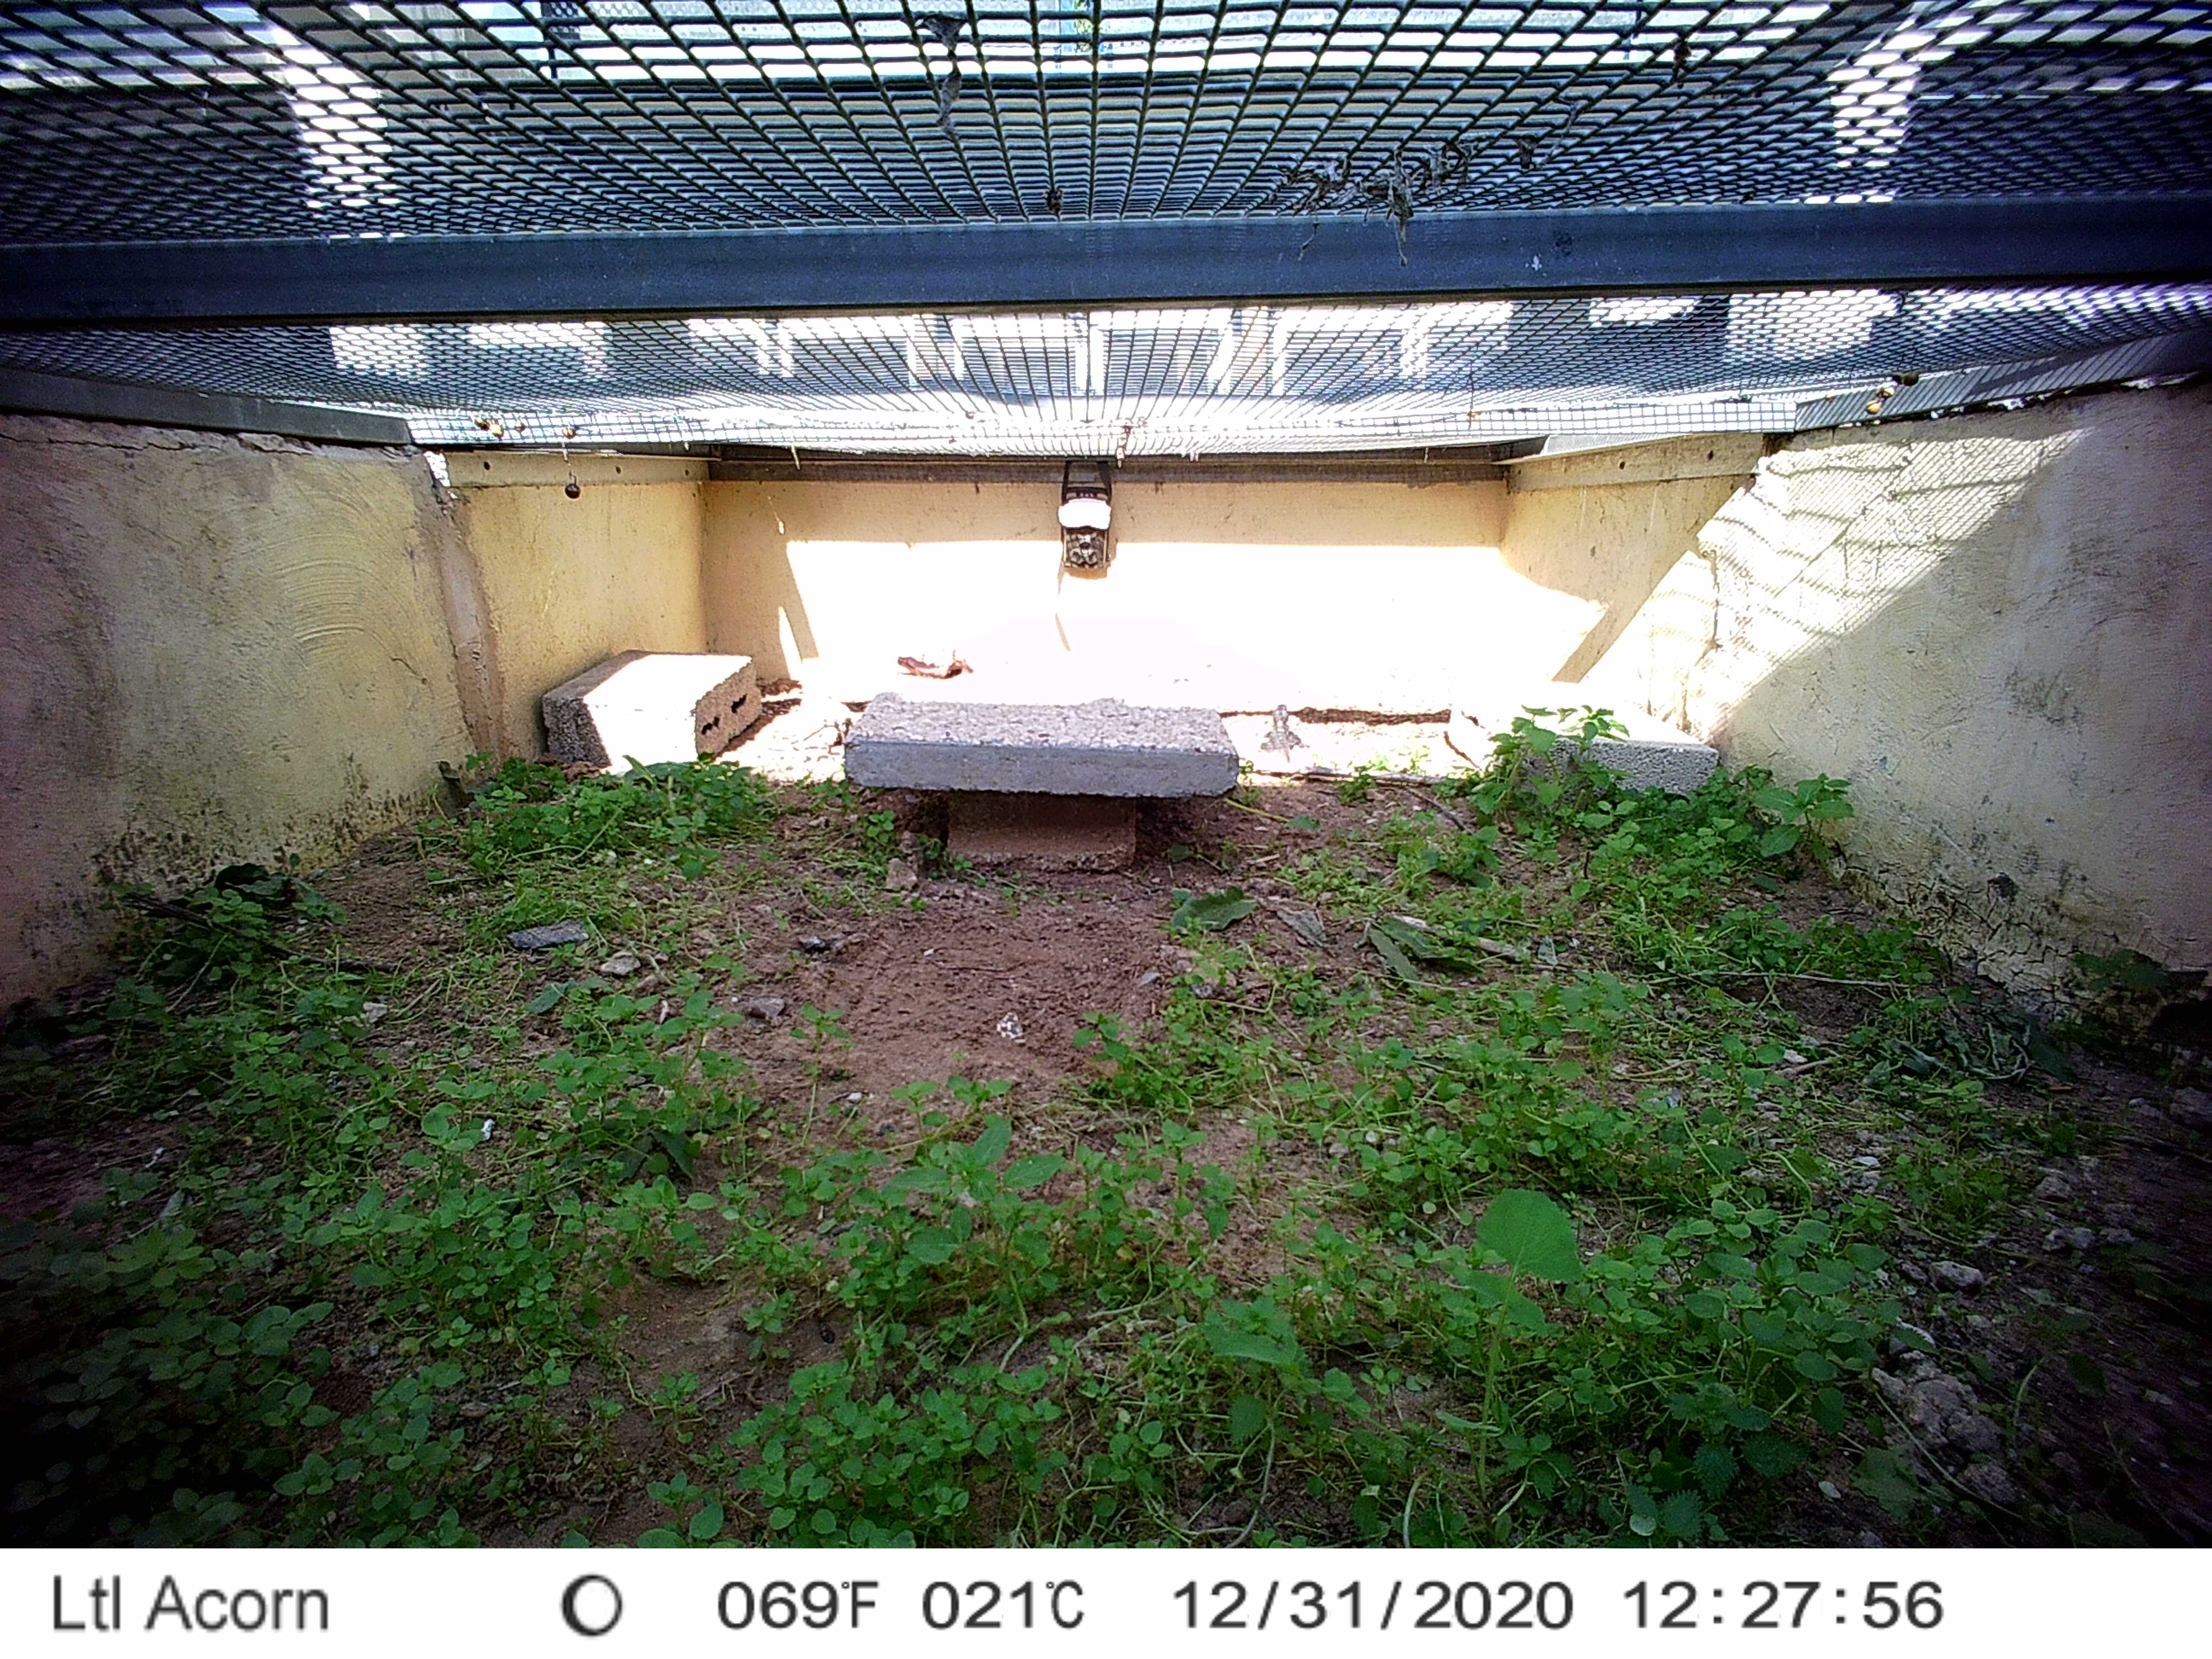lizard: (1254, 704, 1306, 774)
